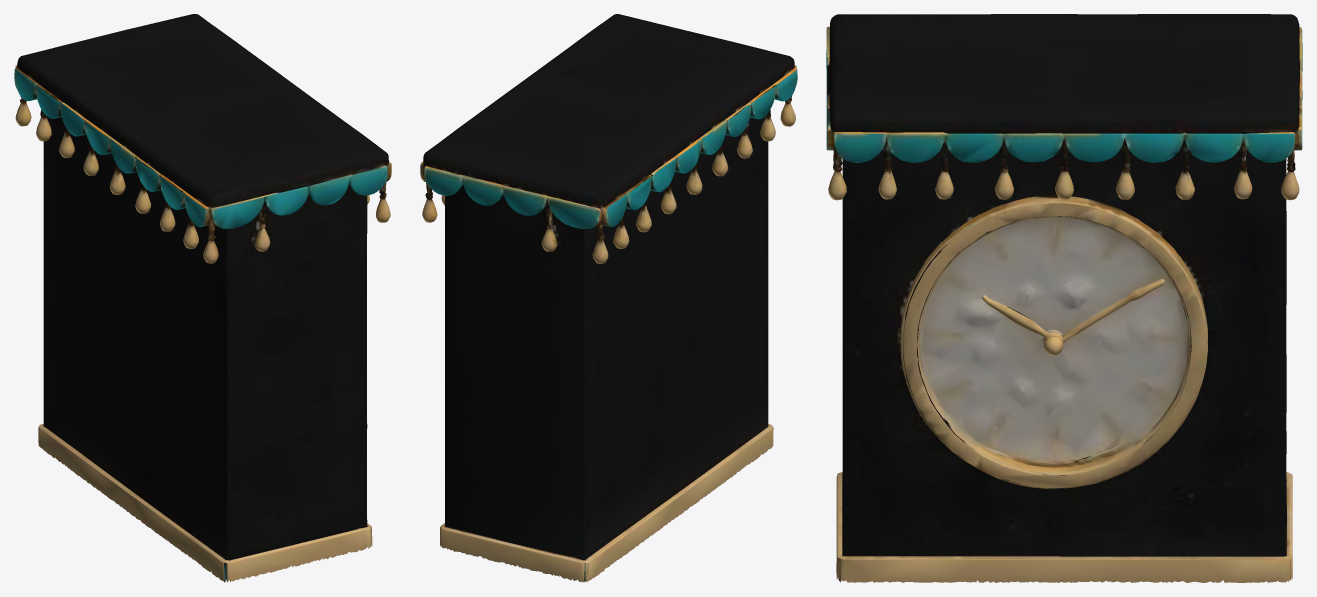
Rendered from TH-08_clock_game.glb.
3 renders of one model, left to right at view 1: azimuth 30°, elevation 25°; view 2: azimuth 150°, elevation 25°; view 3: azimuth 270°, elevation 25°, orthographic. The views are drawn at different scales.
Parts seen in each view (by area): view 1: TH-08_clock; view 2: TH-08_clock; view 3: TH-08_clock.
Boxes of the visible parts, <box> form: TH-08_clock: <box>14,14,391,582</box>; TH-08_clock: <box>420,14,797,582</box>; TH-08_clock: <box>826,14,1302,582</box>.
Size of the model in its own units: 0.1594 by 0.32 by 0.2917.
Materials: 1 (1 with a texture image).
